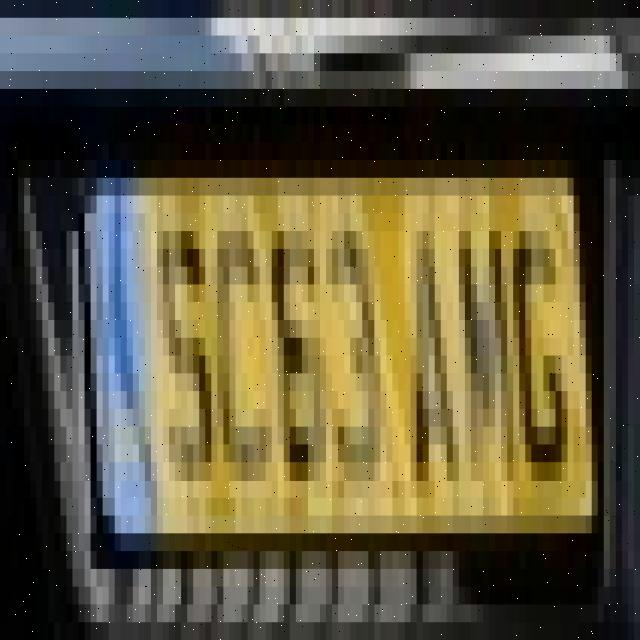licenseplate: (70, 138, 600, 588)
